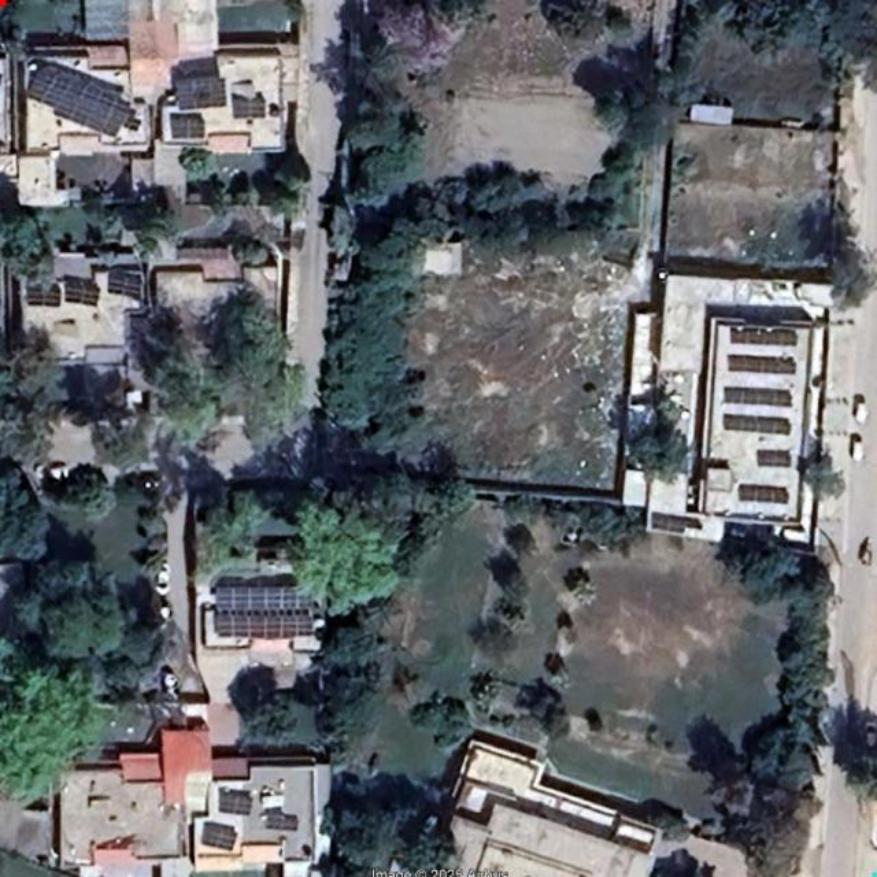Solarpanel: (28, 74, 132, 134), (213, 588, 314, 636), (177, 77, 225, 109), (201, 825, 236, 851), (108, 275, 143, 300), (24, 282, 60, 303), (235, 99, 266, 119), (219, 795, 253, 813), (172, 119, 205, 137), (66, 287, 99, 305), (263, 814, 299, 830)
